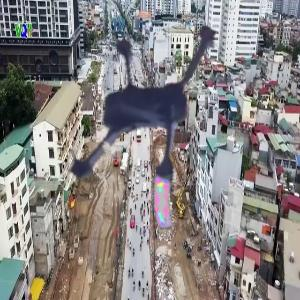drone: (23, 9, 273, 259)
